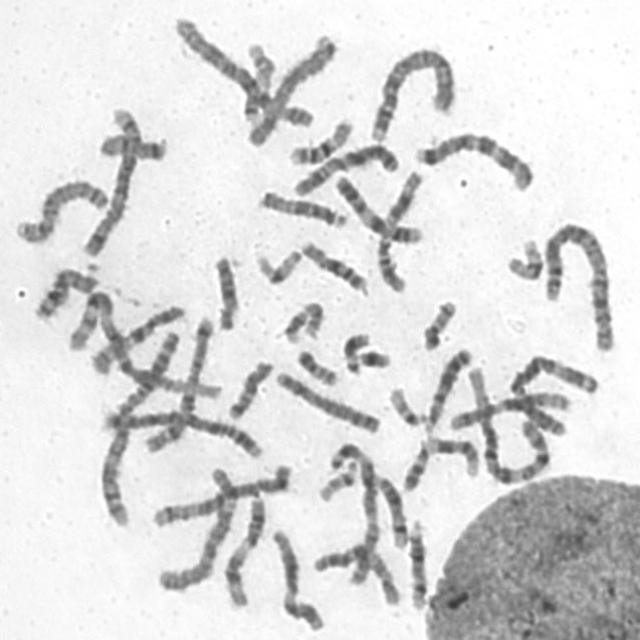A1: (65, 282, 224, 403), (459, 360, 552, 487)
A2: (93, 319, 185, 529), (538, 214, 619, 354)
A3: (504, 348, 602, 438), (326, 436, 381, 590)
B4: (97, 401, 266, 461), (363, 39, 458, 142)
B5: (146, 457, 296, 530), (76, 99, 142, 259)
C10: (86, 298, 187, 376), (308, 538, 404, 608)
C11: (370, 163, 427, 294), (218, 491, 269, 610)
C12: (265, 523, 326, 633), (443, 384, 571, 432)
C6: (165, 10, 316, 130), (152, 461, 237, 594)
C7: (138, 308, 218, 457), (408, 124, 538, 194)
C8: (269, 363, 384, 436), (10, 172, 111, 247)
C9: (328, 167, 424, 245), (396, 429, 483, 494)
D13: (418, 340, 476, 435), (28, 257, 103, 322)
D14: (368, 466, 410, 550), (401, 512, 431, 612)
D15: (252, 184, 350, 230), (210, 256, 240, 332)
E16: (293, 233, 370, 295), (283, 112, 356, 167)
E17: (238, 35, 277, 124), (278, 294, 326, 344)
E18: (222, 353, 275, 421), (99, 135, 167, 164)
F19: (248, 241, 303, 287), (500, 230, 546, 282)
F20: (416, 293, 460, 352), (290, 341, 340, 388)
G21: (338, 326, 372, 376), (351, 341, 394, 372)
G22: (312, 455, 360, 504), (382, 379, 428, 428)
X: (242, 28, 339, 148), (287, 136, 402, 199)
